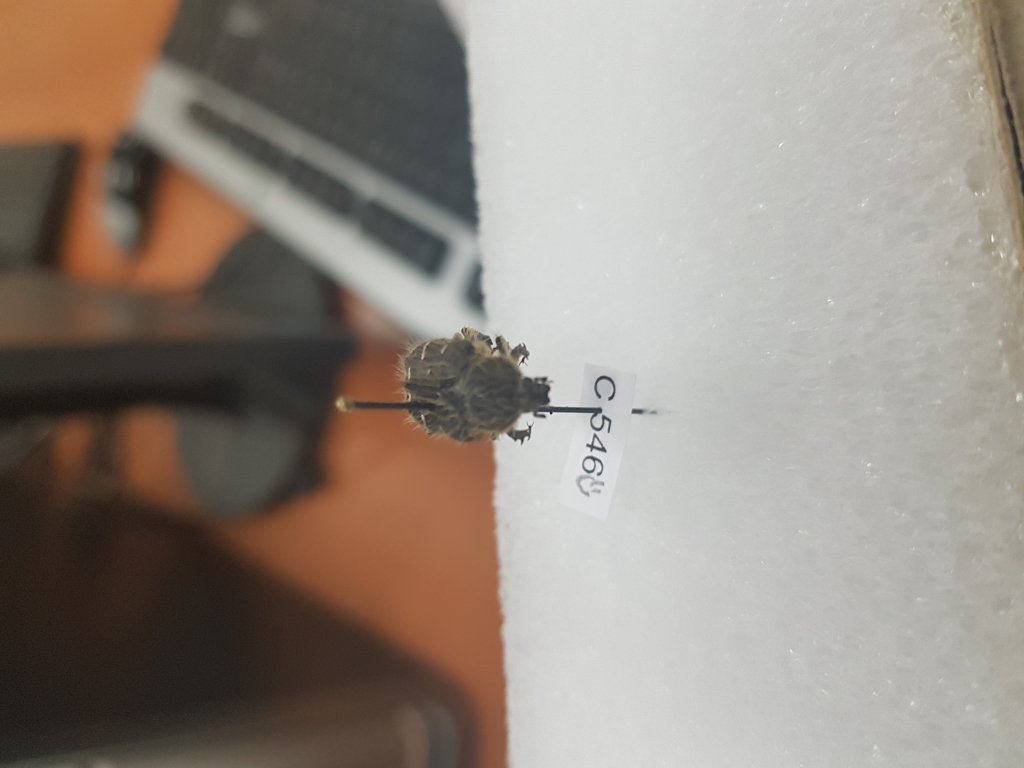Tropinota_senicula: (402, 318, 558, 466)
